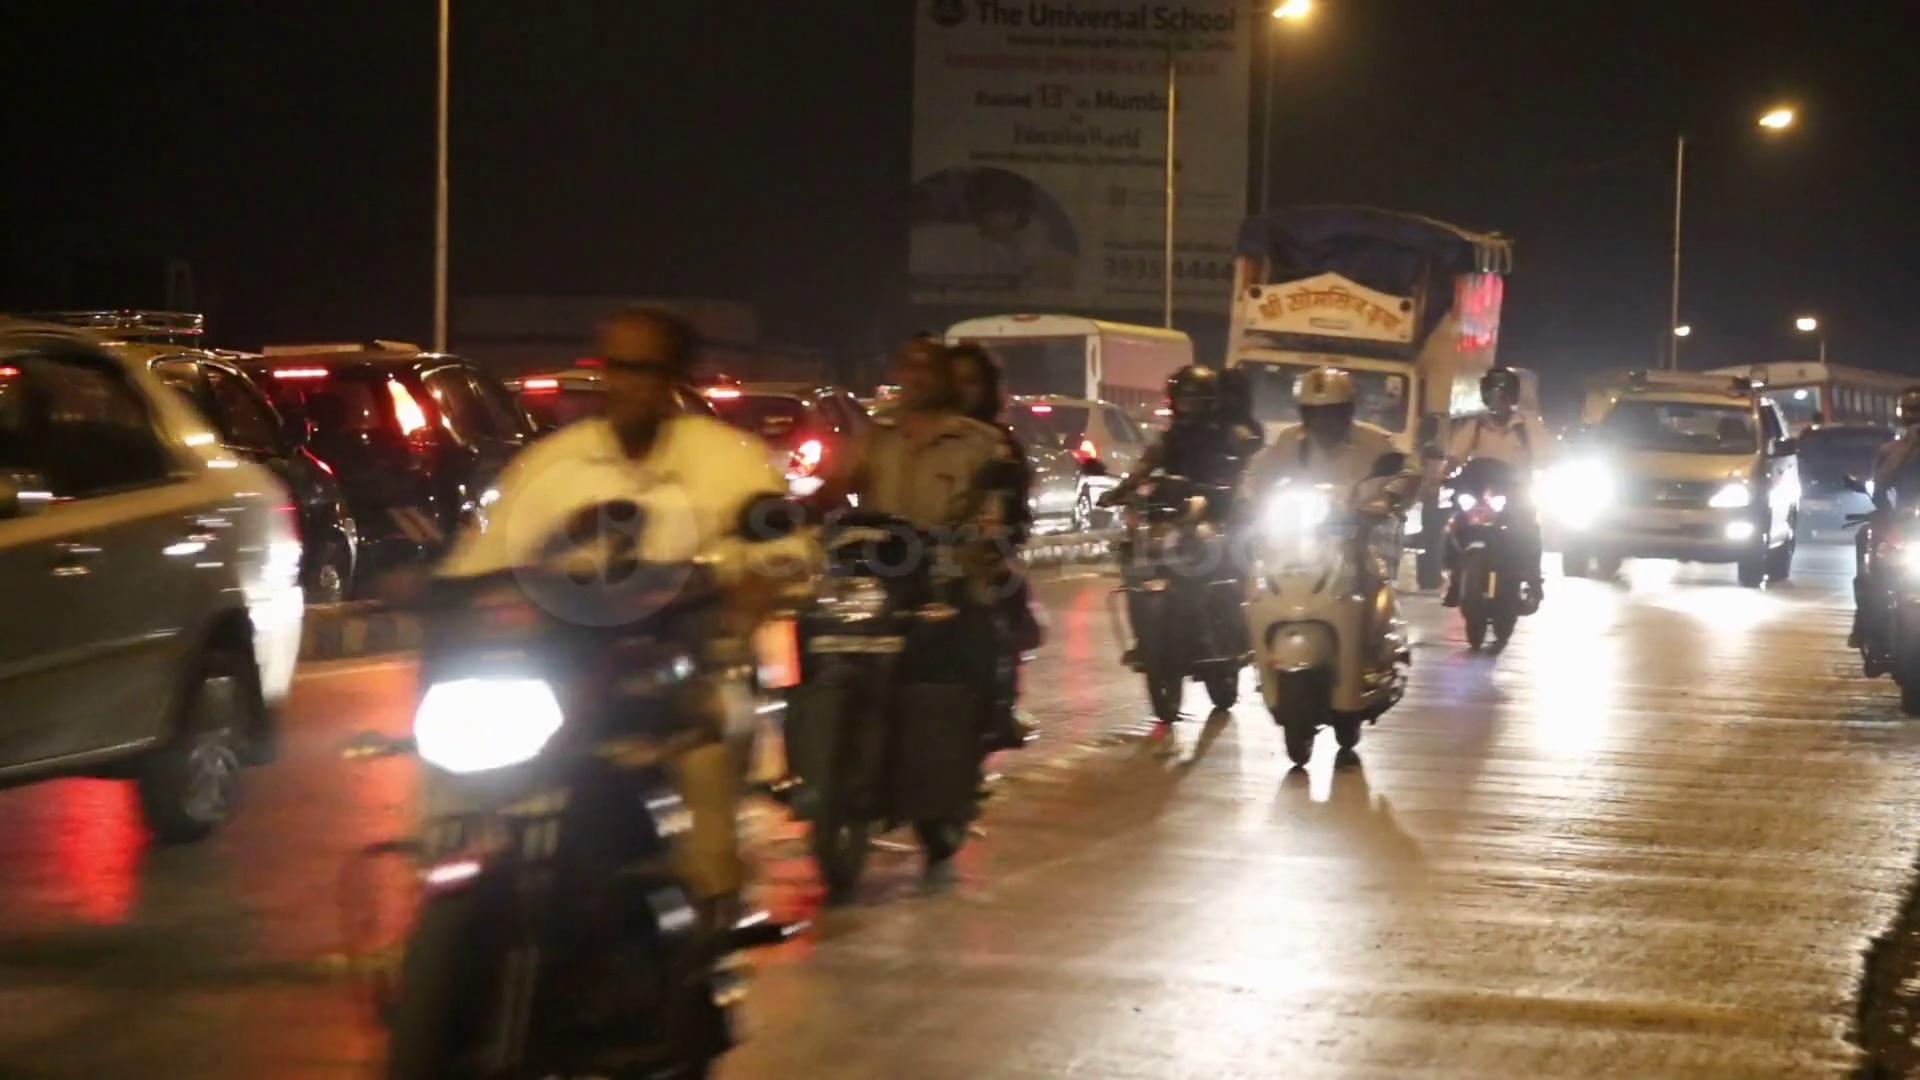rider: (390, 311, 741, 1080), (793, 331, 1033, 901), (1225, 364, 1423, 762), (1095, 361, 1260, 744), (1434, 365, 1557, 650)
with_helmate: (1281, 370, 1367, 441), (1159, 369, 1216, 434), (1479, 369, 1517, 419)
without_helmate: (581, 327, 703, 426), (883, 350, 960, 417)
